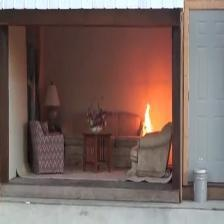fire: (138, 98, 160, 142)
